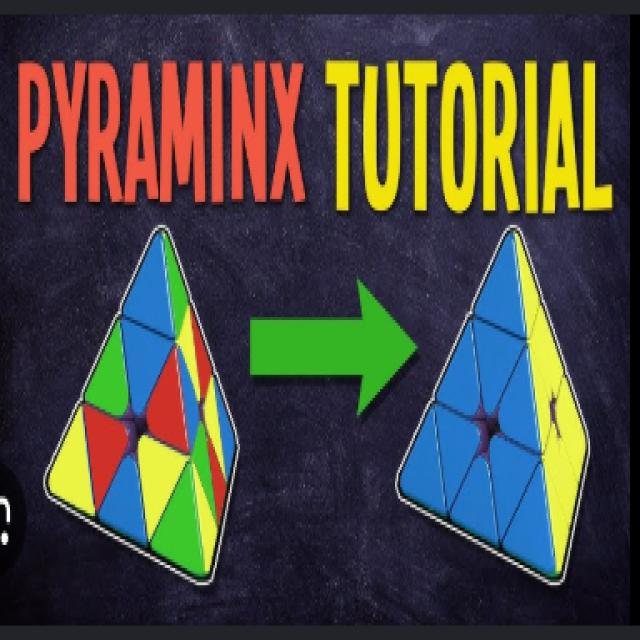Pyraminx: (395, 220, 596, 587), (44, 226, 243, 584)
